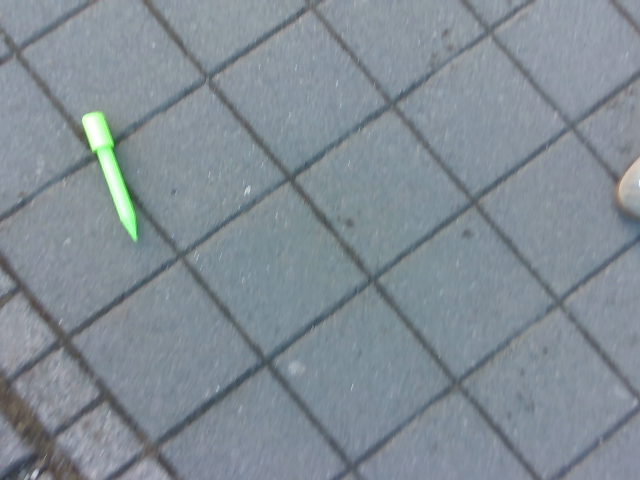Probe: (79, 107, 144, 244)
